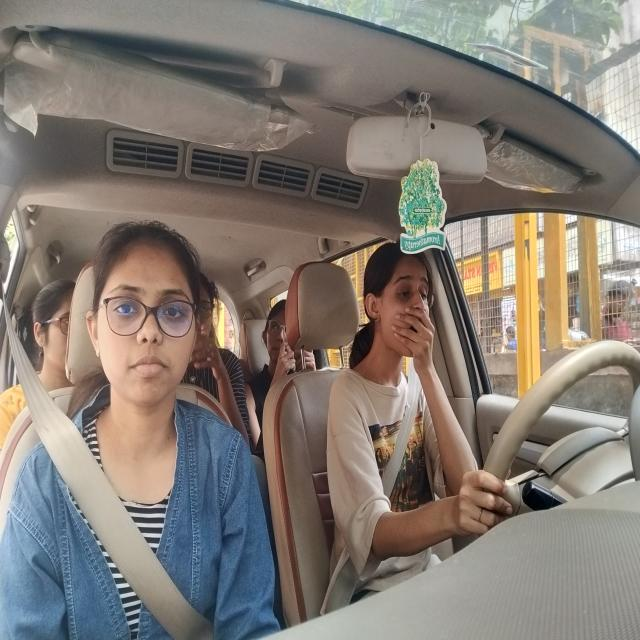drowsy: (358, 244, 445, 367)
person: (86, 217, 200, 405), (28, 272, 76, 365), (260, 302, 298, 379), (193, 275, 221, 360)
